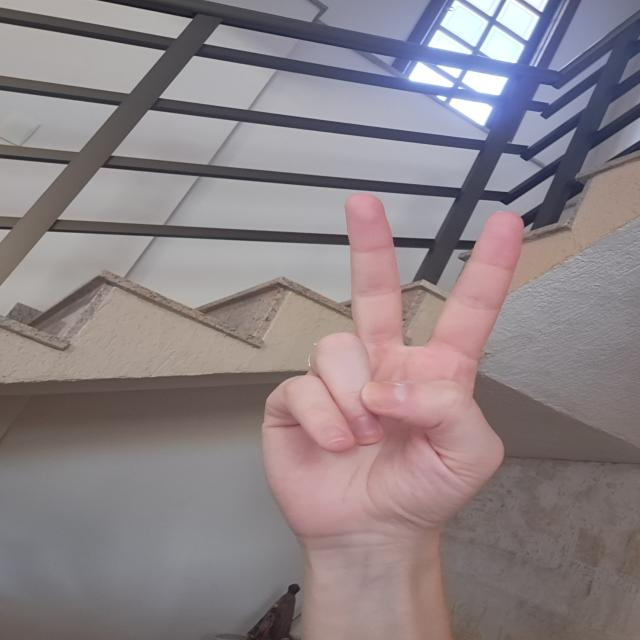V: (259, 176, 531, 555)
